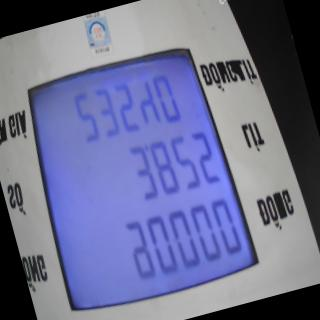screen: (3, 20, 267, 320)
